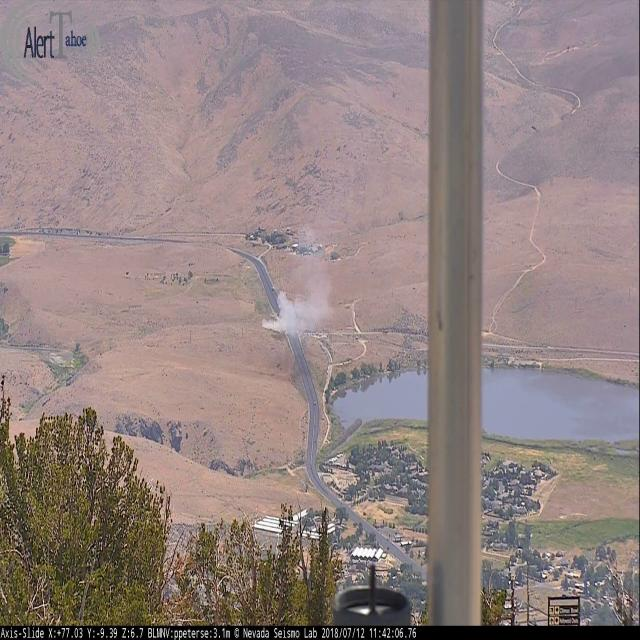smoke: (258, 204, 342, 338)
